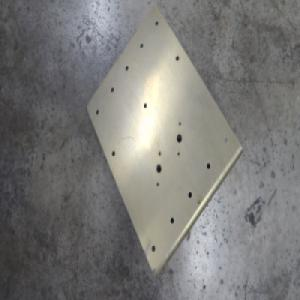MetalSheet: (85, 5, 243, 279)
